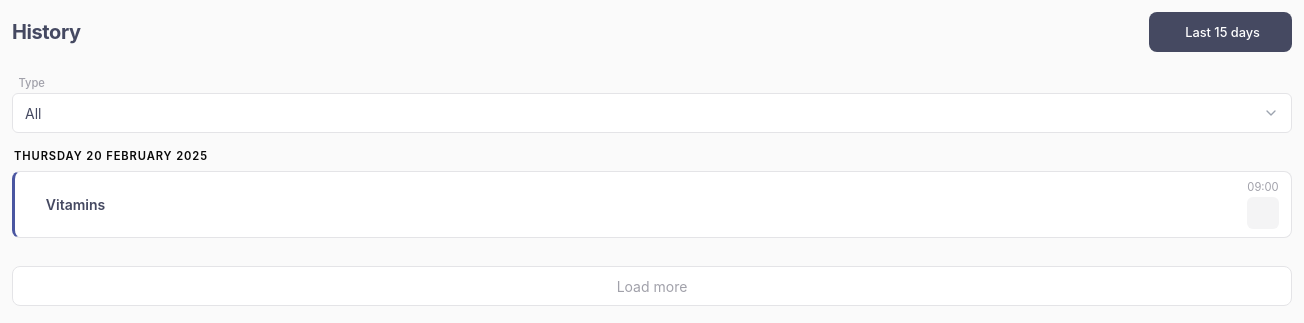
Test: HistoryPage › shows loading label on the pagination button while the next page is in flight
The image size is (1304, 323).
Click the button "Load more". click: click(652, 286)
box: x1=12 y1=266 x2=1292 y2=306
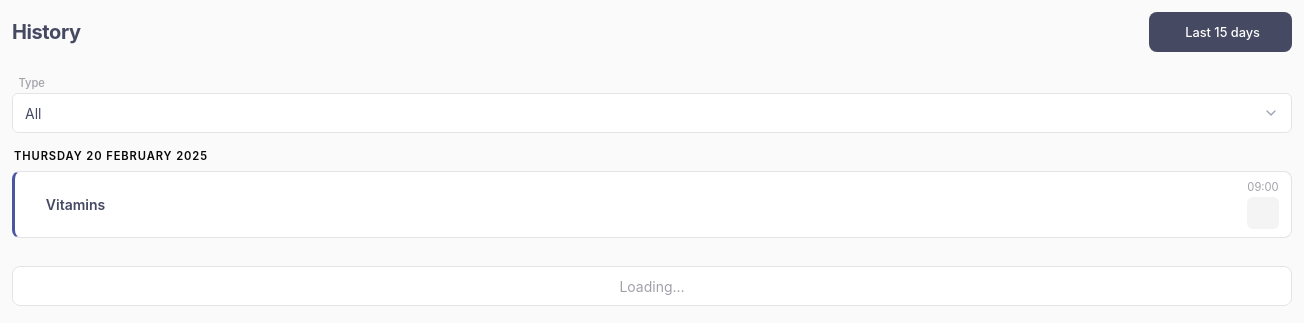
Check: the button "Loading…" is shown, box x1=12 y1=266 x2=1292 y2=306
